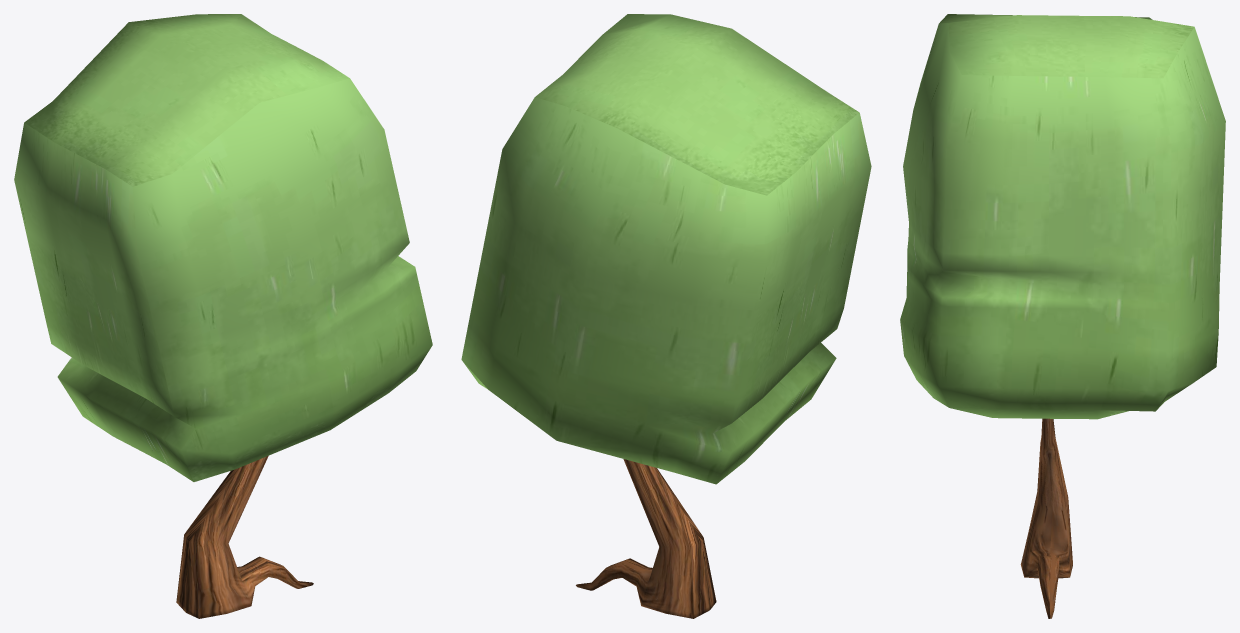
File: tree_001.glb
The picture shows the model from 3 angles, left to right: view 1: azimuth 30°, elevation 25°; view 2: azimuth 150°, elevation 25°; view 3: azimuth 270°, elevation 25°; orthographic projection.
Visible parts, largest first — view 1: tree001_leaves, tree001_trunk; view 2: tree001_leaves, tree001_trunk; view 3: tree001_leaves, tree001_trunk.
Boxes of the visible parts, bbox=[...] form: tree001_leaves: bbox=[14, 14, 432, 481]; tree001_trunk: bbox=[176, 456, 313, 618]; tree001_leaves: bbox=[461, 14, 871, 484]; tree001_trunk: bbox=[576, 459, 716, 618]; tree001_leaves: bbox=[900, 14, 1225, 419]; tree001_trunk: bbox=[1020, 418, 1072, 618].
Size of the model in its own units: 2.8 by 4.8 by 2.56.
1 material, 1 textured.
